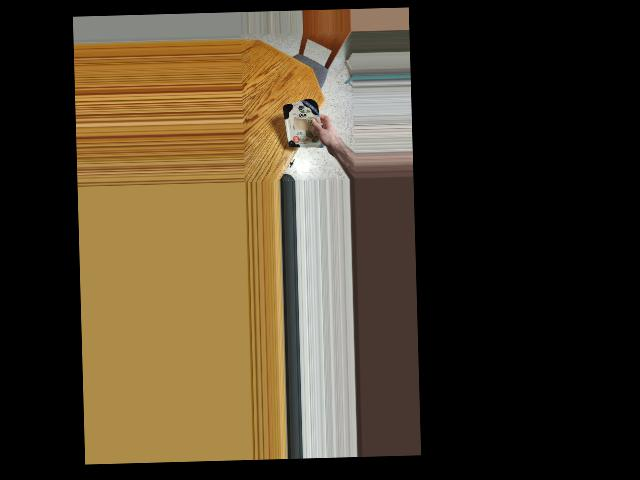cheese: (287, 96, 323, 154)
